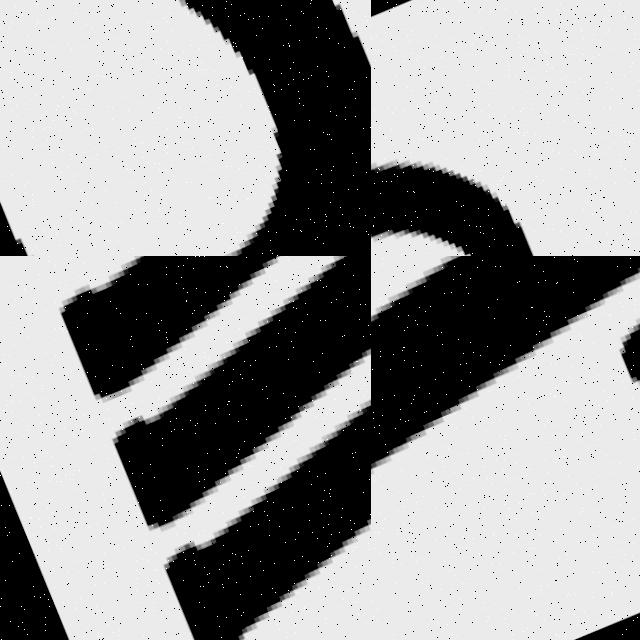6: (371, 33, 640, 256)
C: (180, 0, 371, 256)
M: (5, 256, 371, 640)
Z: (371, 256, 640, 545)
